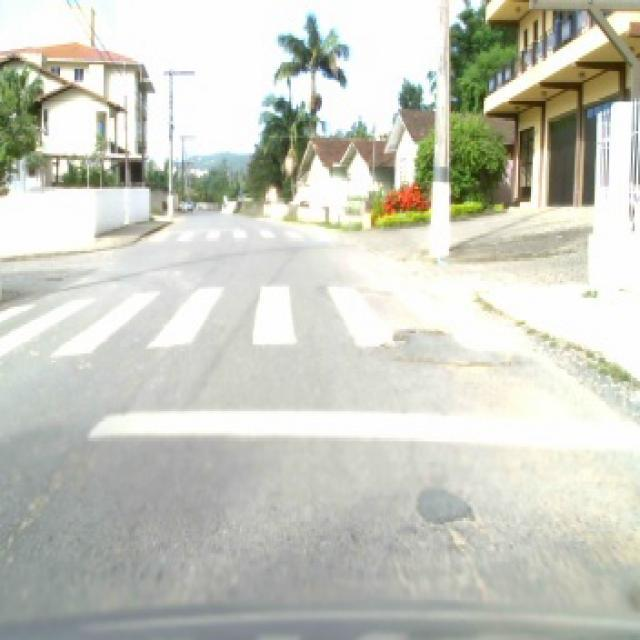Poth-hole: (424, 511, 484, 551), (394, 353, 526, 369), (372, 322, 446, 349)
